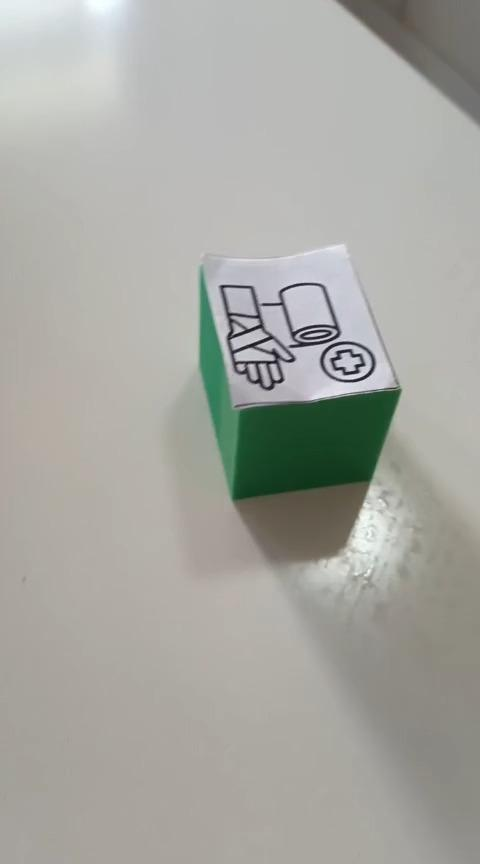Bandages: (196, 242, 402, 501)
